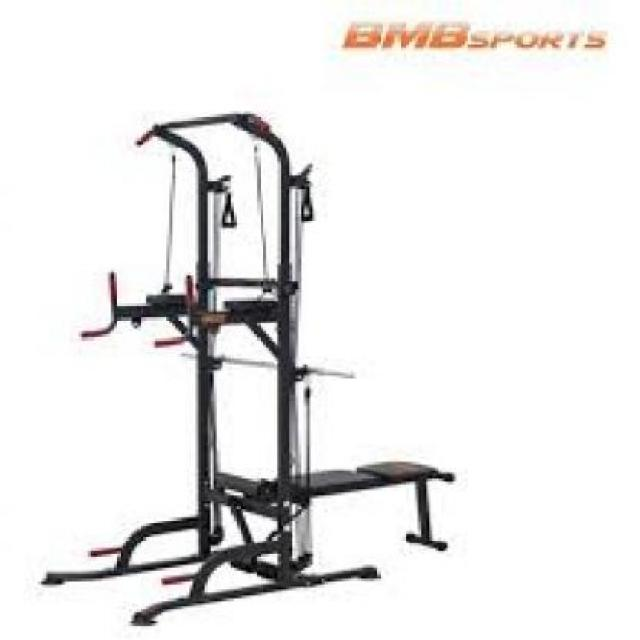chinning dipping: (42, 112, 318, 628)
